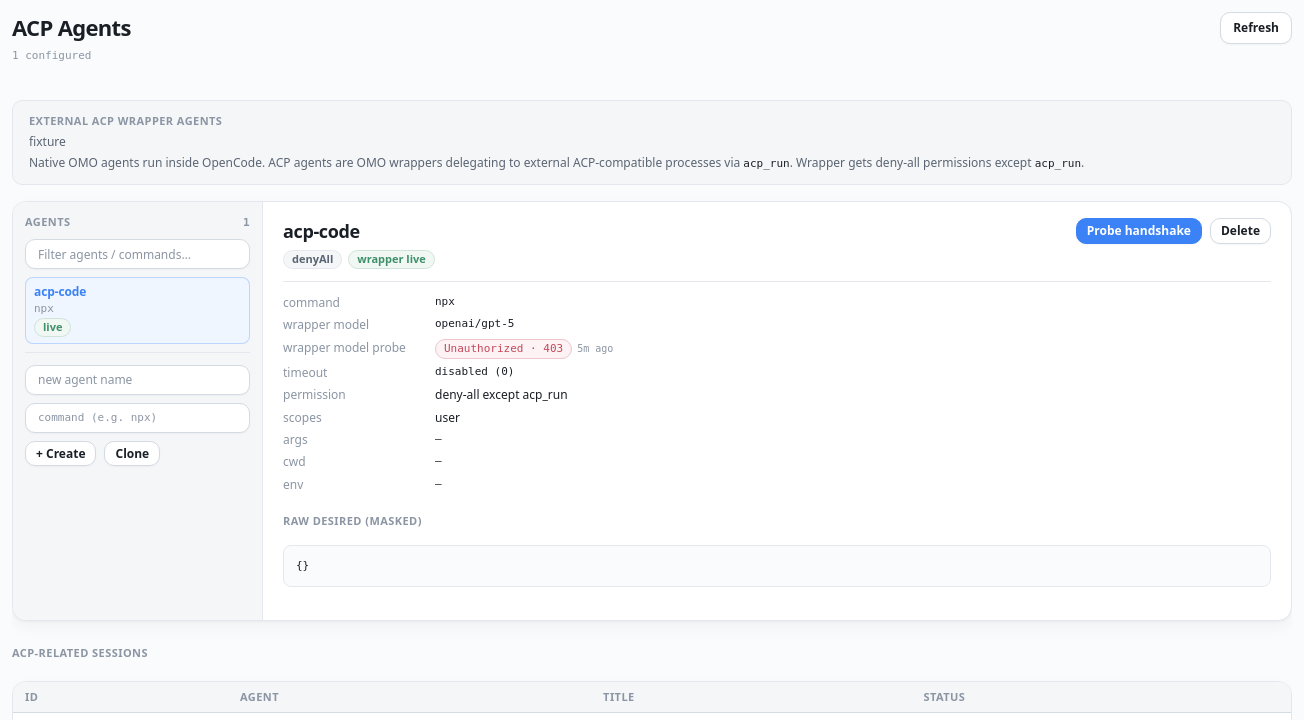
Scenario: probe integration — agents / council / acp / sessions (slice 15 §75) › AcpPage shows wrapper model probe separately from handshake panel
Expected: the text "Handshake probe" is not shown
Click the button "Probe handshake": (1139, 231) x1=1076 y1=218 x2=1202 y2=244
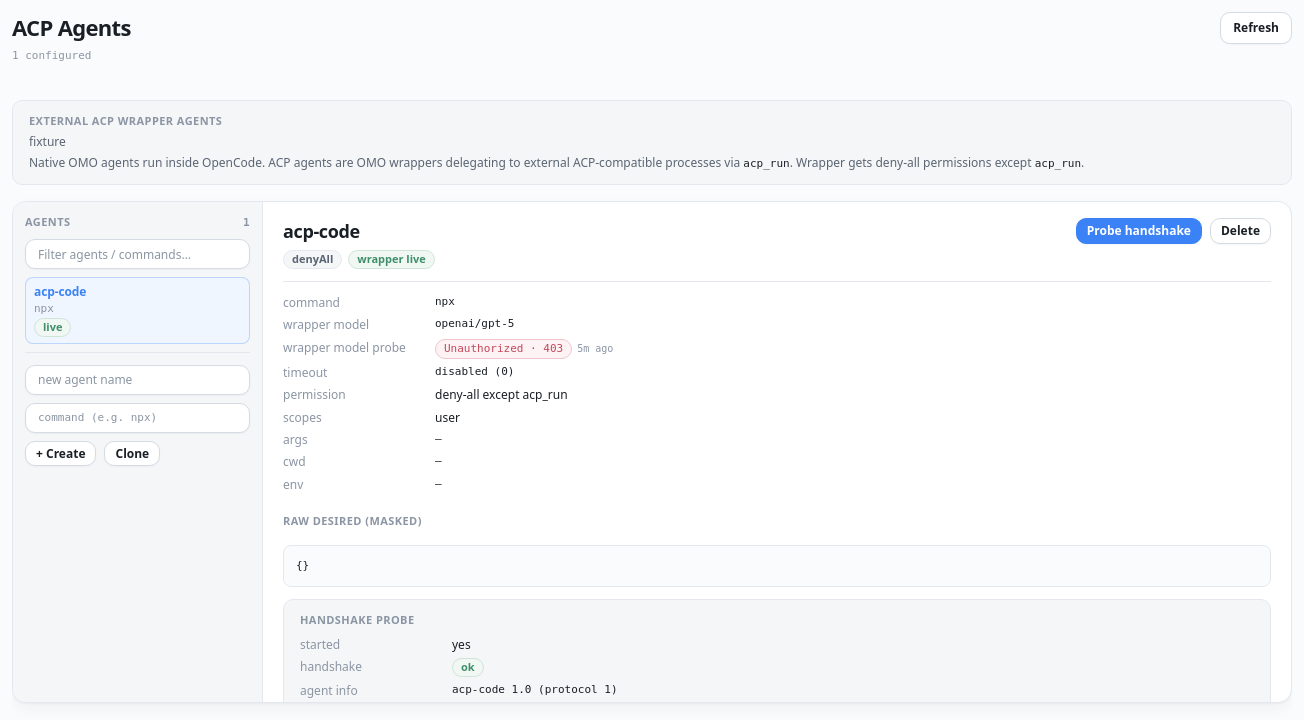
Expected: the text "wrapper model probe" is shown, x1=283 y1=339 x2=423 y2=359
Expected: the text "ok" is shown, x1=452 y1=658 x2=484 y2=677
